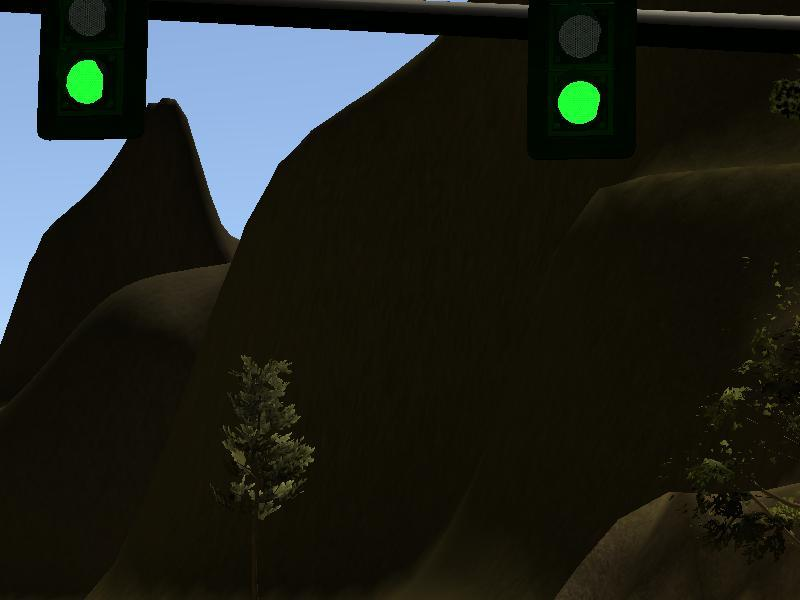Green: (527, 1, 638, 159), (39, 1, 148, 139)
